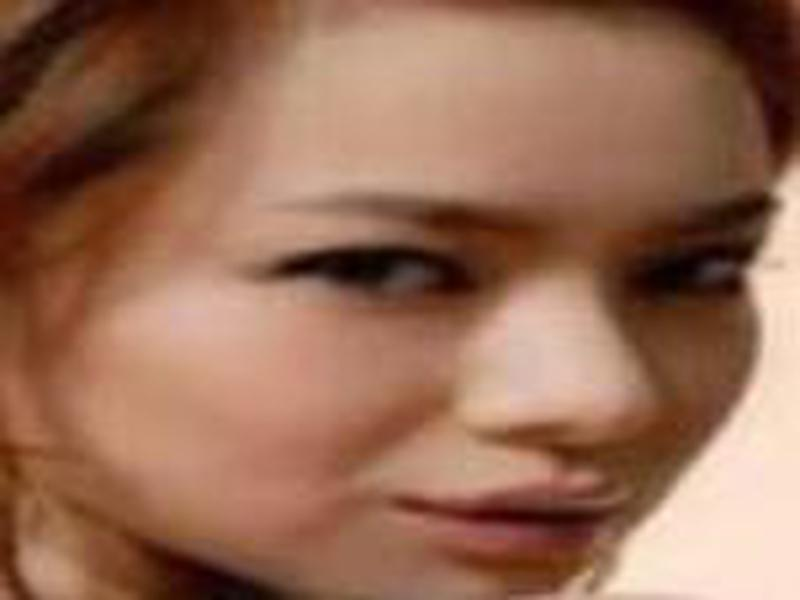without_mask: (129, 33, 791, 600)
